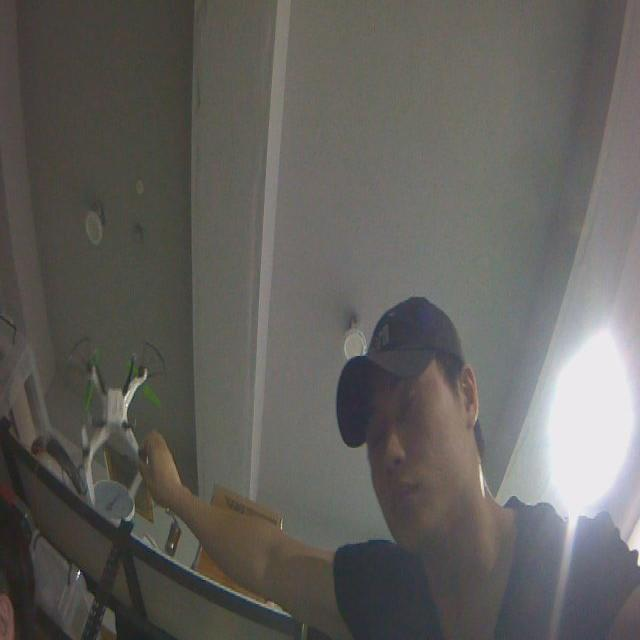drone: (62, 328, 168, 502)
